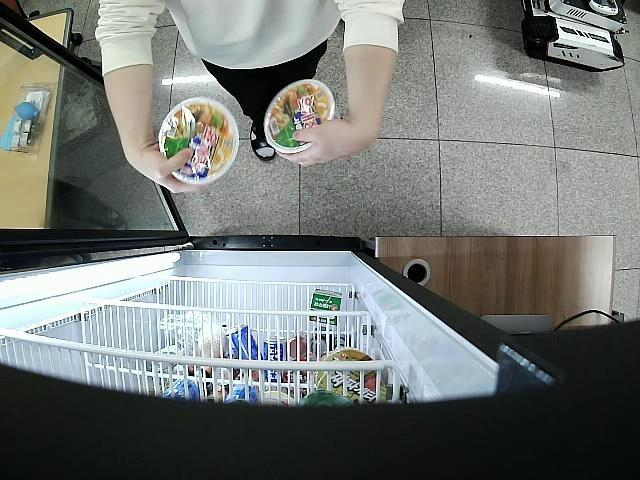09_yukGaeJang: (158, 96, 239, 184), (264, 79, 335, 154)
